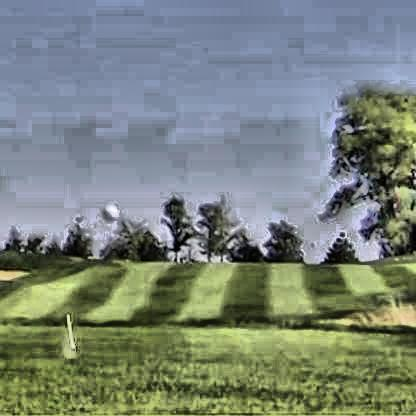golfball: (99, 200, 116, 220)
